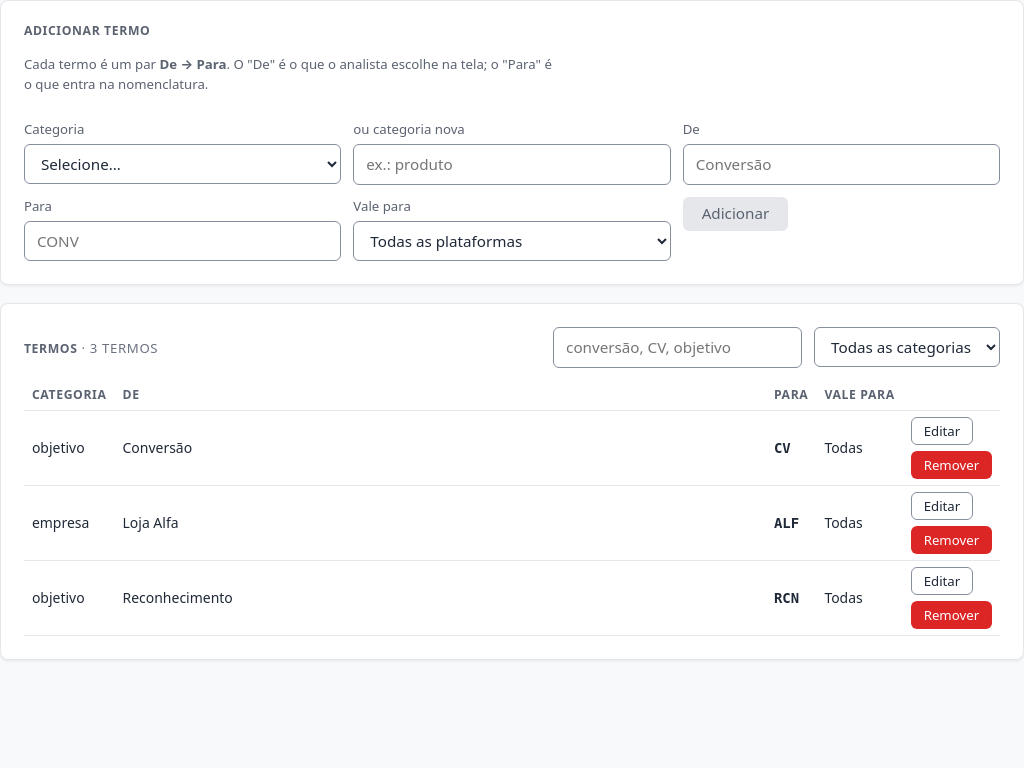
Test: busca local › acha "Conversão" digitando "conversao"
Expected: the text "Conversão" is shown, [114,411,766,486]
Type "conversao" into the search field named "Buscar termo" at (678, 348), box [553,327,802,368]
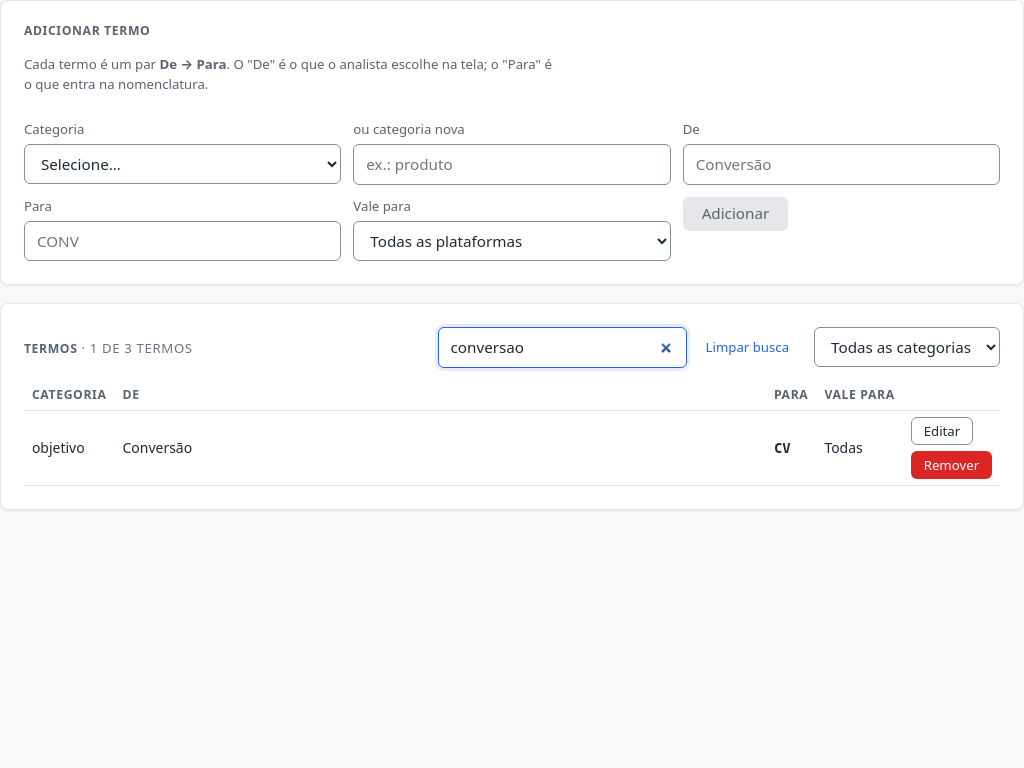
Expected: the text "Conversão" is shown, [114,411,766,486]
Now the text "Loja Alfa" is gone
